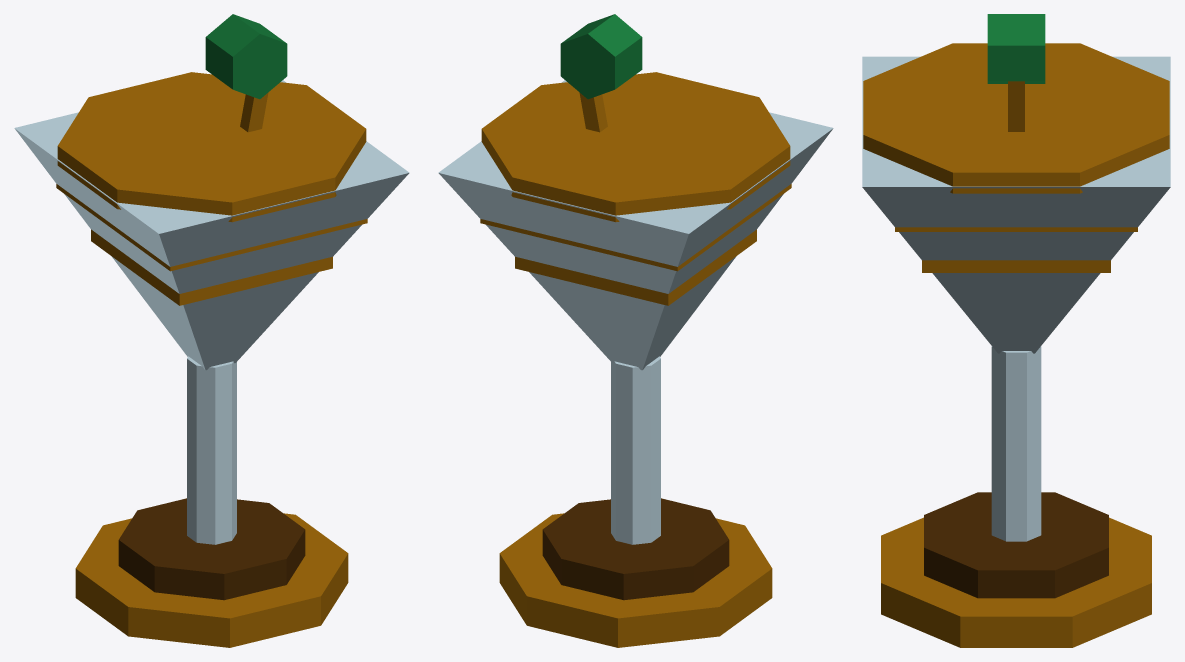
File: HP_Plus5.fbx
The picture shows the model from 3 angles, left to right: view 1: azimuth 30°, elevation 25°; view 2: azimuth 150°, elevation 25°; view 3: azimuth 270°, elevation 25°; orthographic projection. The views are drawn at different scales.
Parts seen in each view (by area): view 1: HP_Plus5; view 2: HP_Plus5; view 3: HP_Plus5.
Part boxes in pixels (x1=…): HP_Plus5: x1=14, y1=14, x2=409, y2=647; HP_Plus5: x1=438, y1=14, x2=833, y2=647; HP_Plus5: x1=862, y1=14, x2=1170, y2=647.
Bounding box in the file's own units: 40 × 85.05 × 40.
